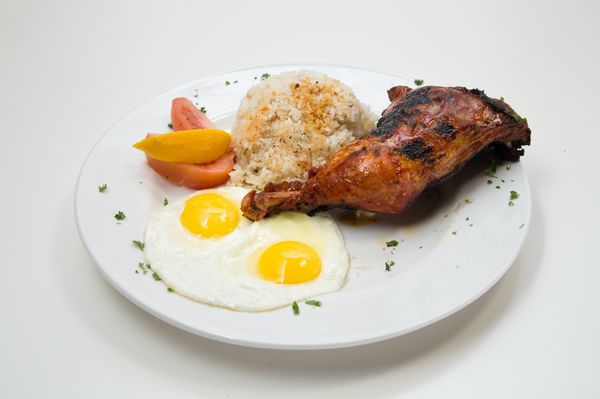curry: (1, 1, 575, 389)
